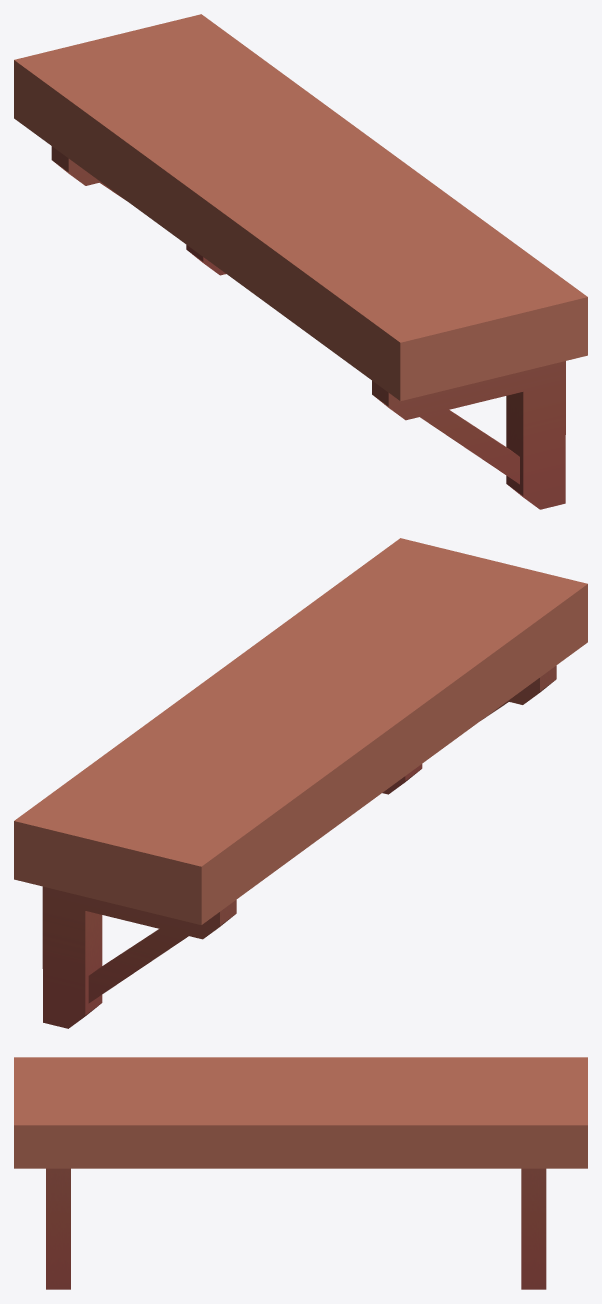
Rendered from SM_Shelf_Wall_1_01.fbx.
3 views of the same model, one above another, from view 1: azimuth 30°, elevation 25°; view 2: azimuth 150°, elevation 25°; view 3: azimuth 270°, elevation 25° (orthographic). The views are drawn at different scales.
Parts seen in each view (by area): view 1: SM_Shelf_Wall_1_01; view 2: SM_Shelf_Wall_1_01; view 3: SM_Shelf_Wall_1_01.
Boxes of the visible parts, x1,y1,x2,y2 form: SM_Shelf_Wall_1_01: [14, 14, 587, 509]; SM_Shelf_Wall_1_01: [14, 538, 587, 1028]; SM_Shelf_Wall_1_01: [14, 1057, 587, 1289].
Bounding box in the file's own units: 38.59 × 43.67 × 138.
